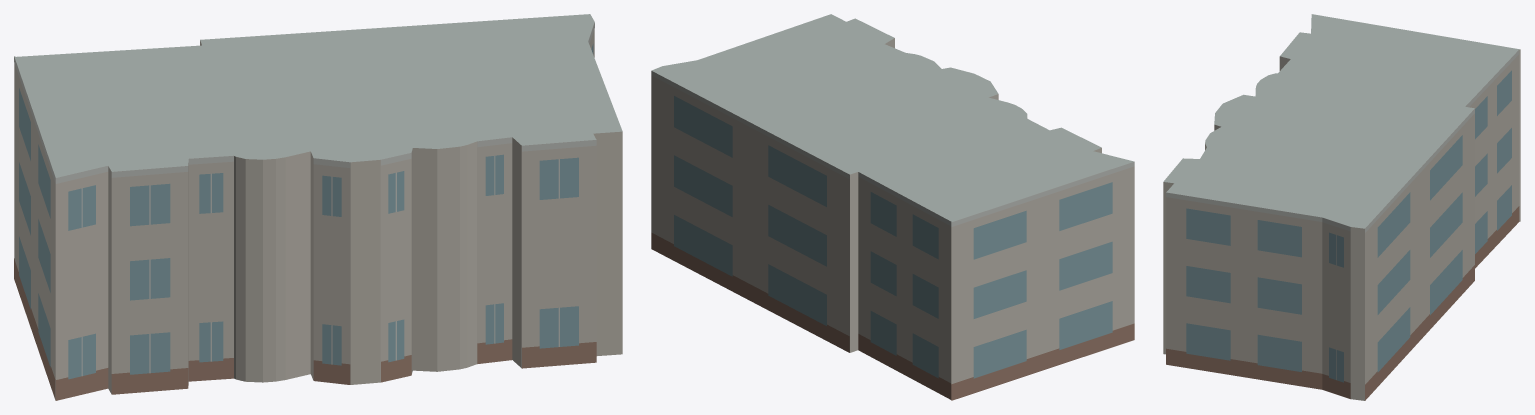
File: survey-upis-32472007.glb
3 views of the same model, side by side, from view 1: azimuth 30°, elevation 25°; view 2: azimuth 150°, elevation 25°; view 3: azimuth 270°, elevation 25° (orthographic). The views are drawn at different scales.
Parts seen in each view (by area): view 1: survey-upis-32472007.tmp; view 2: survey-upis-32472007.tmp; view 3: survey-upis-32472007.tmp.
Boxes of the visible parts, box(x1,y1,x2,y2) form: survey-upis-32472007.tmp: box(14, 14, 622, 400); survey-upis-32472007.tmp: box(651, 14, 1134, 400); survey-upis-32472007.tmp: box(1163, 14, 1520, 400).
Size of the model in its own units: 24.47 by 9.15 by 17.22.
